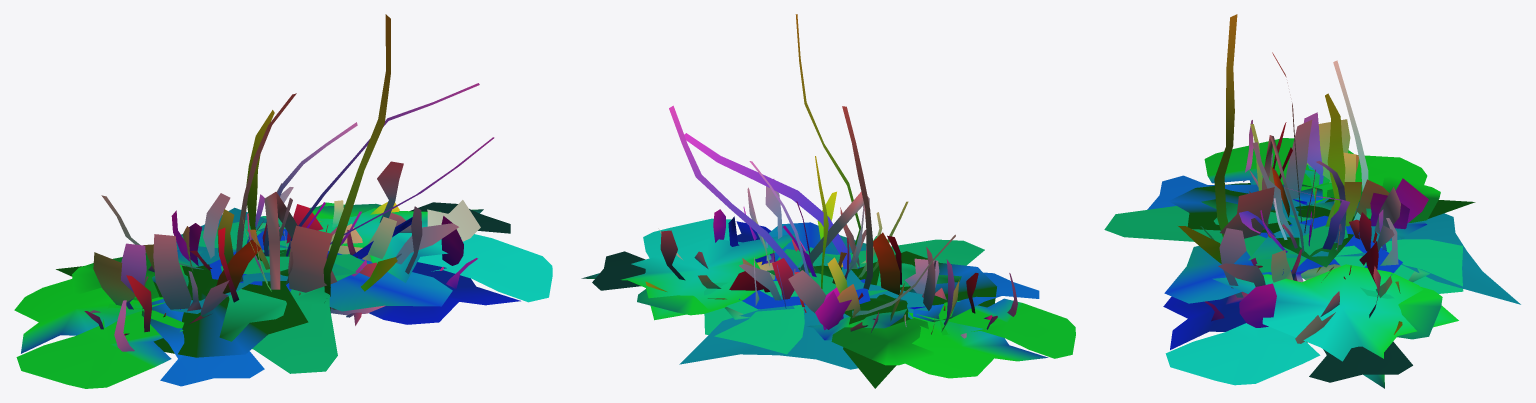
File: Wild_Grass_vdilbaiia_Mid_vdilbaiia_VarB_LOD0.fbx
3 views of the same model, side by side, from view 1: azimuth 30°, elevation 25°; view 2: azimuth 150°, elevation 25°; view 3: azimuth 270°, elevation 25° (orthographic). The views are drawn at different scales.
Visible parts, largest first — view 1: _28cn_VarB_LOD1; view 2: _28cn_VarB_LOD1; view 3: _28cn_VarB_LOD1.
Part boxes in pixels (x1,y1,x2,y2): _28cn_VarB_LOD1: (14,14,552,388); _28cn_VarB_LOD1: (581,14,1075,388); _28cn_VarB_LOD1: (1104,14,1520,388).
Size of the model in its own units: 88.19 by 48.5 by 62.15.
